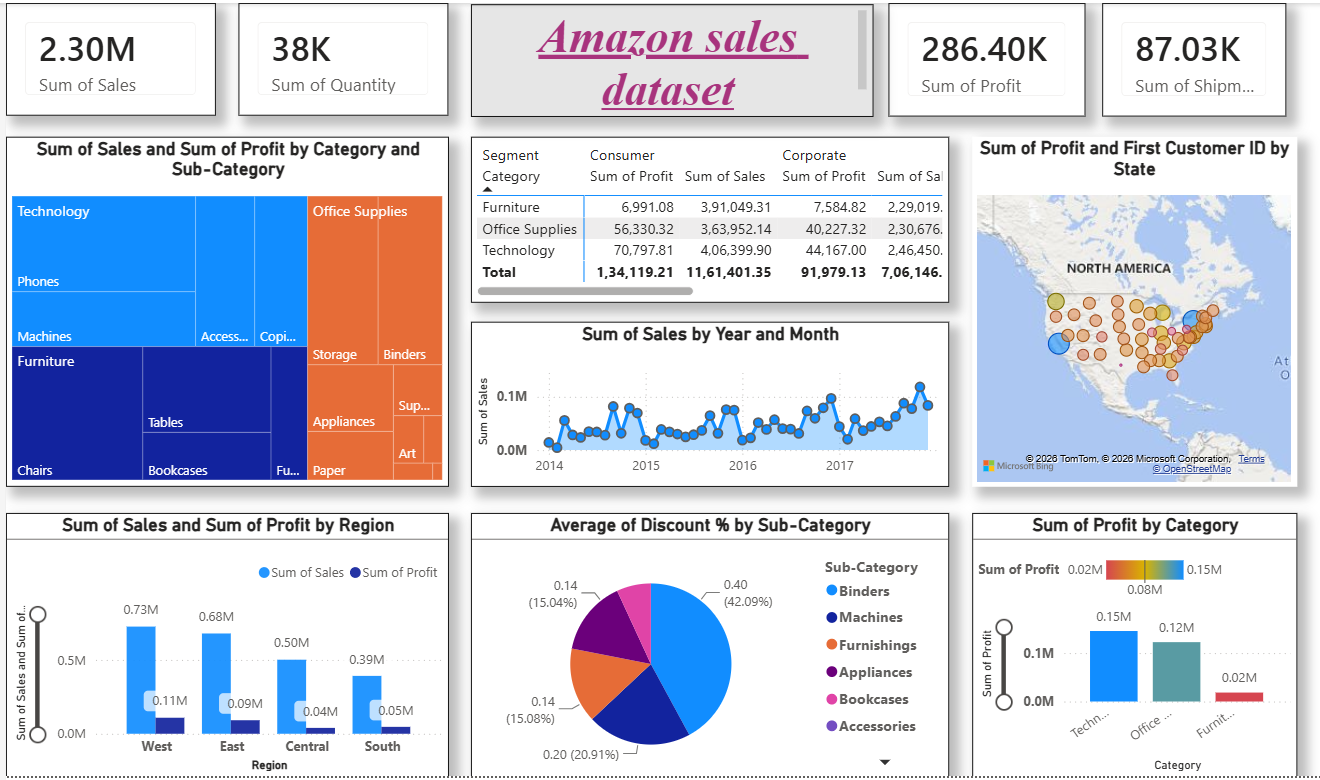

This screenshot's page, from the dashboard's own definition file:
{"tool":"powerbi","page":{"name":"Page 1","canvas":[1280,720],"ordinal":0},"visuals":[{"type":"cardVisual","fields":{"Data":["Sum(Orders.Sales)"]},"box":[0,0,195.6,104.4],"z":0},{"type":"cardVisual","fields":{"Data":["Sum(Orders.Quantity)"]},"box":[216.7,0,195.6,104.4],"z":1000},{"type":"cardVisual","fields":{"Data":["Sum(Orders.Profit)"]},"box":[821.1,0,183.3,105.6],"z":2000},{"type":"cardVisual","fields":{"Data":["Sum(Orders.Shipment Cost)"]},"box":[1020,0,171.1,105.6],"z":3000},{"type":"columnChart","fields":{"Category":["Orders.Category"],"Y":["Sum(Orders.Profit)"]},"box":[898.9,474.4,302.2,245.6],"z":4000},{"type":"lineChart","fields":{"Category":["Orders.Order Date.Variation.Date Hierarchy.Year","Orders.Order Date.Variation.Date Hierarchy.Month"],"Y":["Sum(Orders.Sales)"]},"box":[432.2,296.7,444.4,153.3],"z":5000},{"type":"pivotTable","fields":{"Columns":["Orders.Segment"],"Rows":["Orders.Category"],"Values":["Sum(Orders.Profit)","Sum(Orders.Sales)"]},"box":[432.2,124.4,444.4,154.4],"z":6000},{"type":"treemap","fields":{"Details":["Orders.Sub-Category"],"Group":["Orders.Category"],"Values":["Sum(Orders.Sales)"]},"box":[0,124.4,412.2,325.6],"z":7000},{"type":"pieChart","fields":{"Category":["Orders.Sub-Category"],"Y":["Avg(Orders.Discount %)"]},"box":[432.2,474.4,444.4,245.6],"z":8000},{"type":"lineClusteredColumnComboChart","fields":{"Category":["Orders.Region"],"Y":["Sum(Orders.Sales)","Sum(Orders.Profit)"]},"box":[0,474.4,412.2,245.6],"z":9000},{"type":"map","fields":{"Category":["Orders.State"],"Size":["Sum(Orders.Profit)"]},"box":[898.9,124.4,302.2,325.6],"z":10000},{"type":"textbox","box":[432.2,1.1,374.4,104.4],"z":11000}]}

Visuals, with their boxes in screenshot pixels (x1, y1, x2, y2):
cardVisual - Sum(Orders.Sales): detection(10, 7, 217, 117)
cardVisual - Sum(Orders.Quantity): detection(239, 7, 445, 117)
cardVisual - Sum(Orders.Profit): detection(876, 7, 1069, 118)
cardVisual - Sum(Orders.Shipment Cost): detection(1086, 7, 1266, 118)
columnChart - Orders.Category x Sum(Orders.Profit): detection(958, 507, 1277, 766)
lineChart - Orders.Order Date.Variation.Date Hierarchy.Year x Orders.Order Date.Variation.Date Hierarchy.Month: detection(466, 320, 935, 481)
pivotTable - Orders.Segment x Orders.Category: detection(466, 138, 935, 301)
treemap - Orders.Sub-Category x Orders.Category: detection(10, 138, 445, 481)
pieChart - Orders.Sub-Category x Avg(Orders.Discount %): detection(466, 507, 935, 766)
lineClusteredColumnComboChart - Orders.Region x Sum(Orders.Sales): detection(10, 507, 445, 766)
map - Orders.State x Sum(Orders.Profit): detection(958, 138, 1277, 481)
textbox: detection(466, 8, 861, 118)
